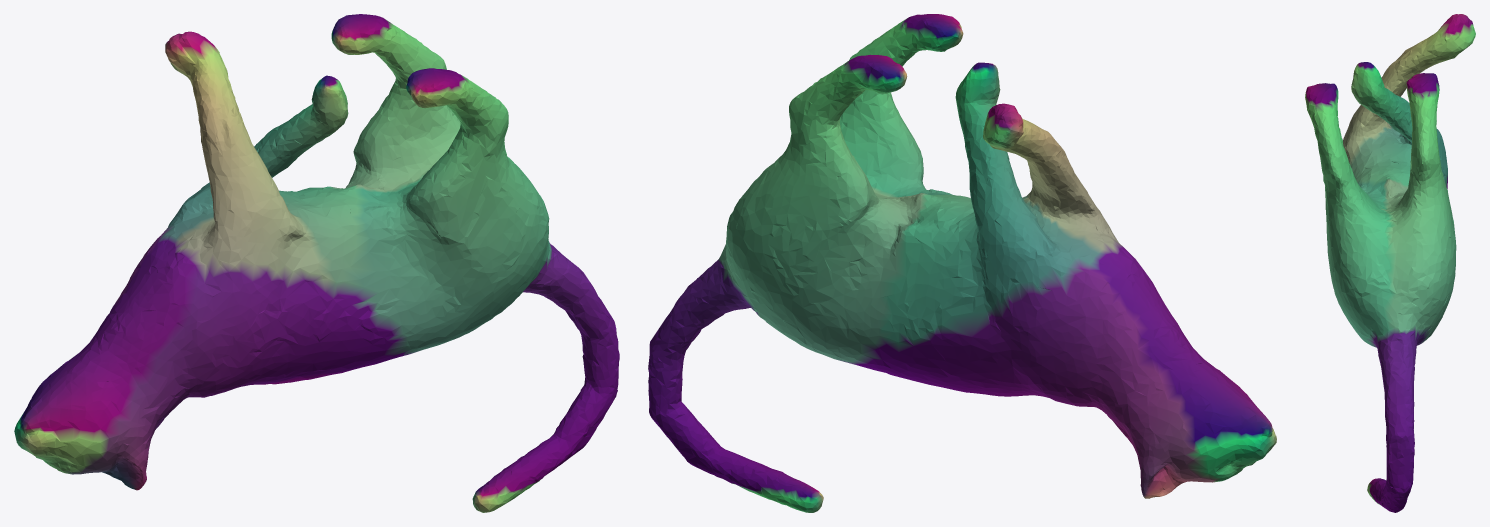
File: cat-20.off.obj
The picture shows the model from 3 angles, left to right: view 1: azimuth 30°, elevation 25°; view 2: azimuth 150°, elevation 25°; view 3: azimuth 270°, elevation 25°; orthographic projection. The views are drawn at different scales.
Bounding box in the file's own units: 1.57 × 1.24 × 0.4956.
